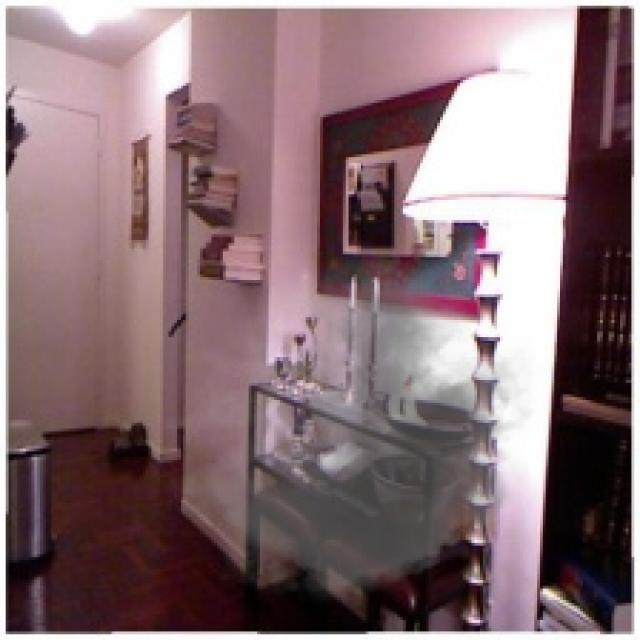Smoke: (162, 255, 558, 614)
